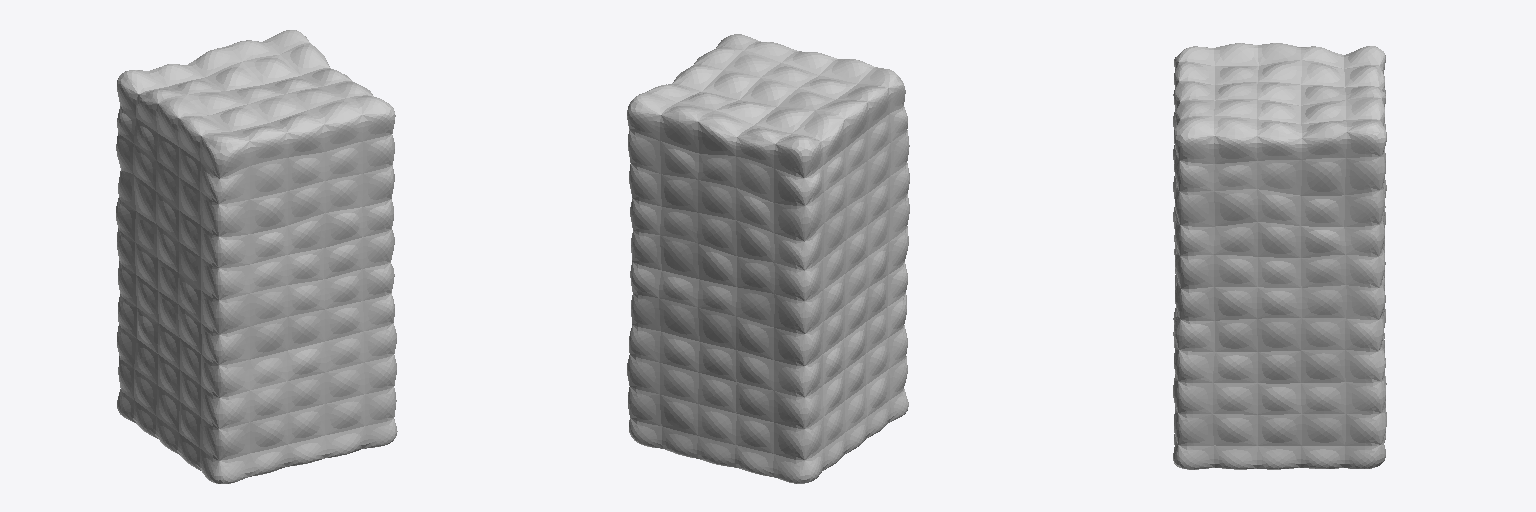
Rendered from Bush.obj.
3 views of the same model, side by side, from view 1: azimuth 30°, elevation 25°; view 2: azimuth 150°, elevation 25°; view 3: azimuth 270°, elevation 25° (orthographic).
Visible parts, largest first — view 1: Plane; view 2: Plane; view 3: Plane.
Part boxes in pixels (bbox=[...]): Plane: bbox=[116, 30, 397, 483]; Plane: bbox=[627, 34, 909, 483]; Plane: bbox=[1173, 43, 1386, 469].
Size of the model in its own units: 1.09 by 1.94 by 1.09.